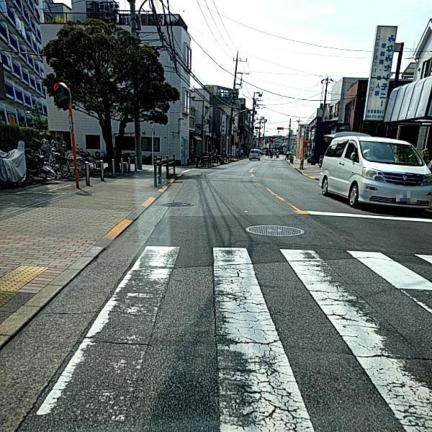Road: (0, 160, 431, 431)
